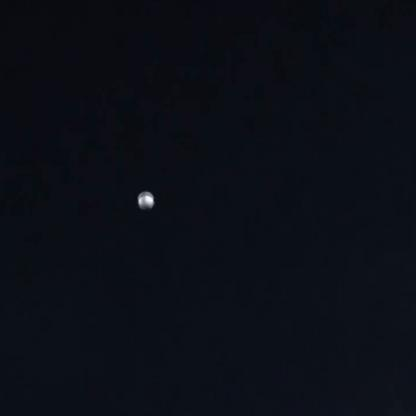ball: (129, 184, 160, 211)
